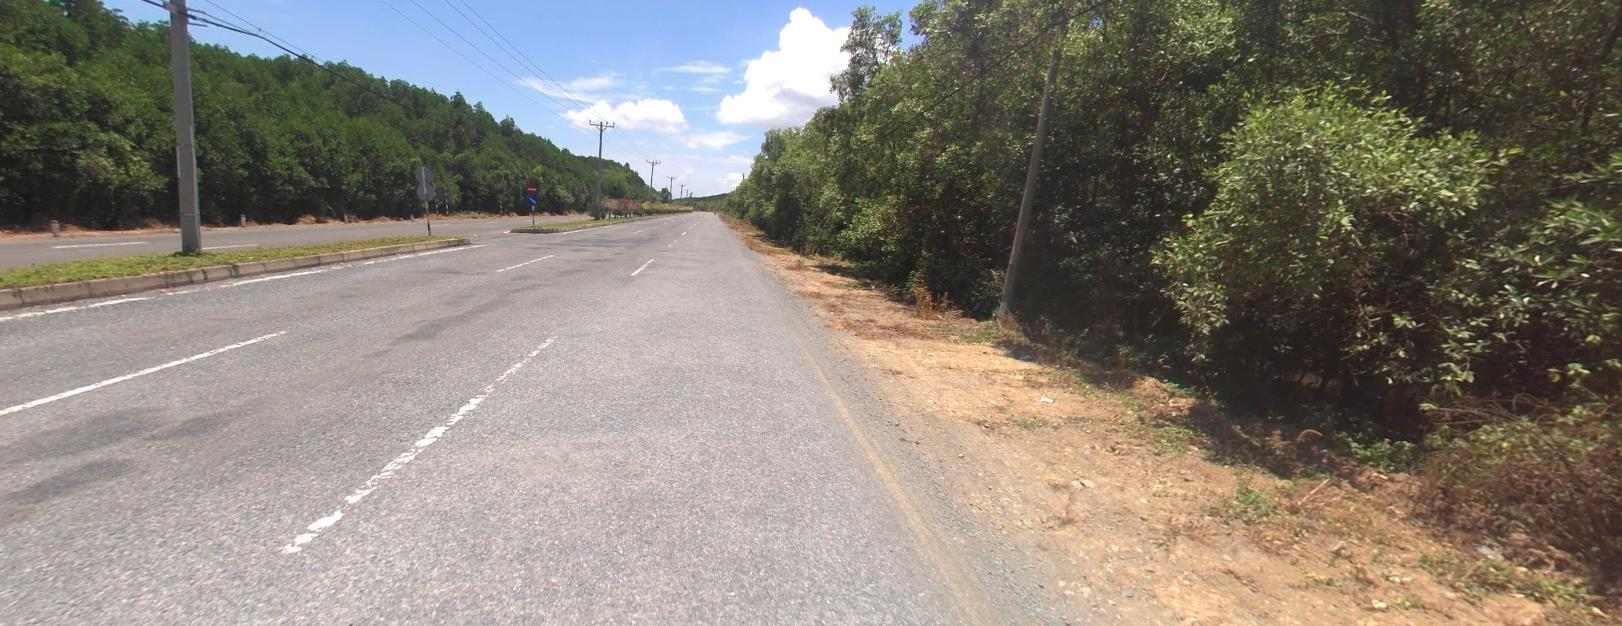Cam nguoc chieu: (527, 182, 537, 193)
Hieu lenh: (525, 193, 537, 204)
